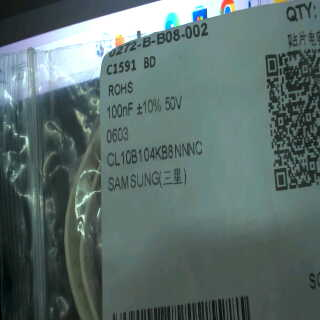100nF: (106, 101, 133, 121)
